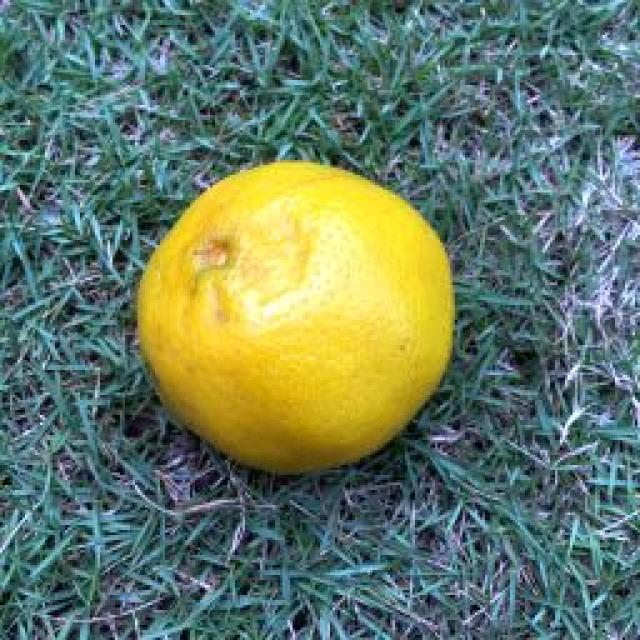Good_Orange: (135, 162, 458, 478)
